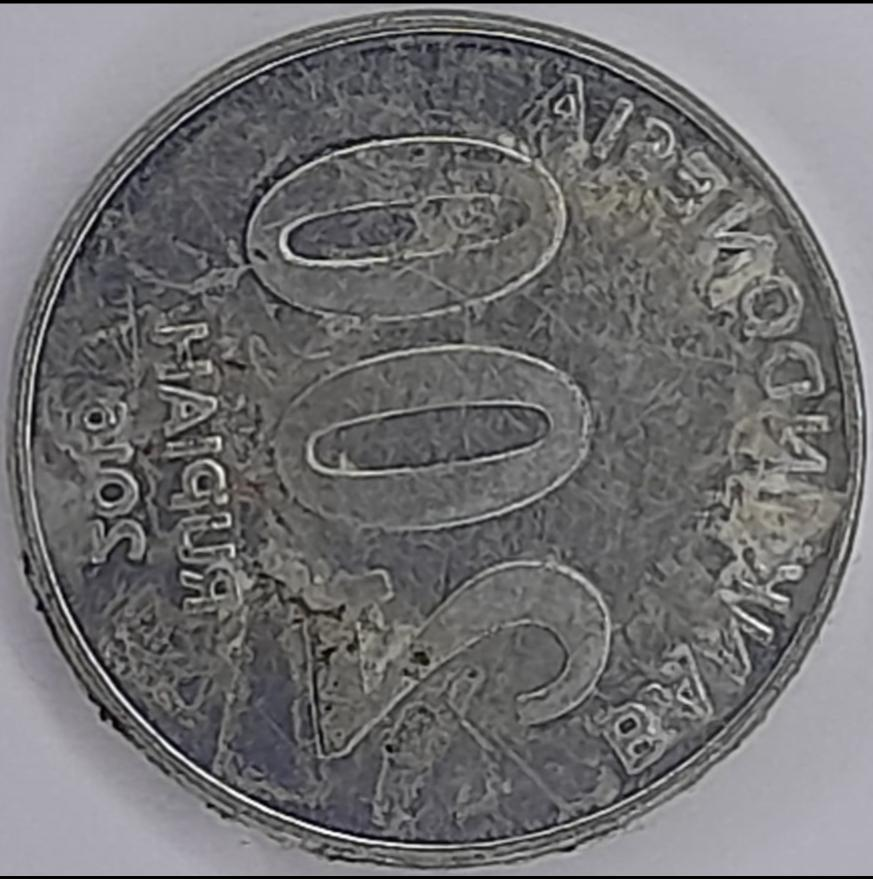coin_200_e2016: (0, 15, 873, 879)
